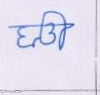i_matra: (56, 11, 68, 49)
